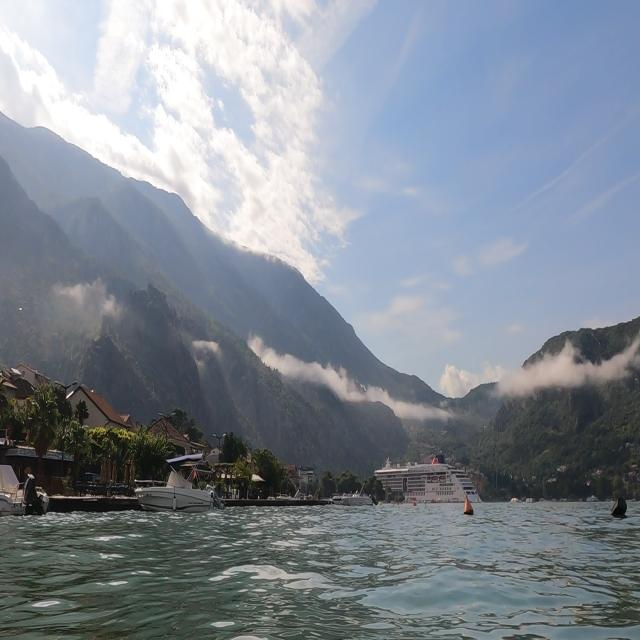boat: (118, 431, 228, 525), (363, 453, 508, 507)
buoy: (607, 488, 627, 523), (461, 492, 476, 524)
